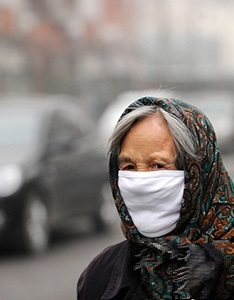face_mask: (117, 118, 183, 231)
